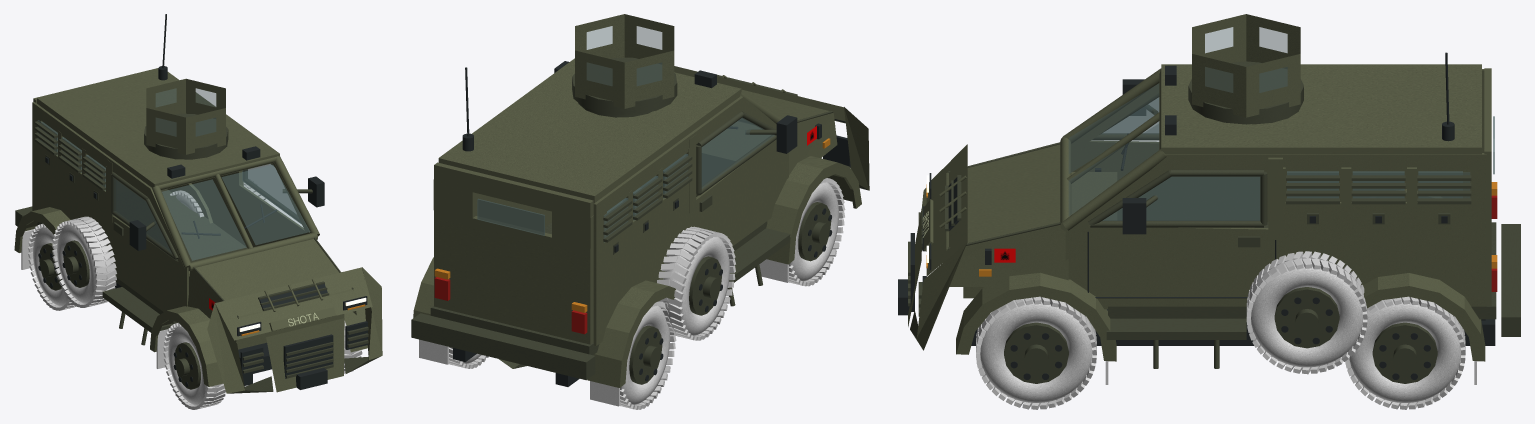
The model's file is shota-lod.glb.
3 views of the same model, side by side, from view 1: azimuth 30°, elevation 25°; view 2: azimuth 150°, elevation 25°; view 3: azimuth 270°, elevation 25° (orthographic). The views are drawn at different scales.
Parts seen in each view (by area): view 1: military_paint_batch (×7), glass_batch (×2), rubber_batch (×5), cabin_batch; view 2: military_paint_batch (×7), rubber_batch (×4), glass_batch (×2), cabin_batch, tail_light_batch; view 3: military_paint_batch (×7), rubber_batch (×3), glass_batch (×2), cabin_batch.
Part boxes in pixels (<box>): military_paint_batch (×7): <box>14,68,382,393</box>; glass_batch (×2): <box>37,88,310,260</box>; rubber_batch (×5): <box>21,190,225,409</box>; cabin_batch: <box>45,14,367,389</box>; military_paint_batch (×7): <box>411,14,869,387</box>; rubber_batch (×4): <box>419,178,845,409</box>; glass_batch (×2): <box>477,26,774,242</box>; cabin_batch: <box>453,61,850,386</box>; tail_light_batch: <box>434,277,587,334</box>; military_paint_batch (×7): <box>908,14,1520,383</box>; rubber_batch (×3): <box>976,251,1465,409</box>; glass_batch (×2): <box>1069,27,1494,220</box>; cabin_batch: <box>898,52,1495,345</box>.
Size of the model in its own units: 3.05 by 3.84 by 6.35.
Materials: 11 (5 with a texture image).
